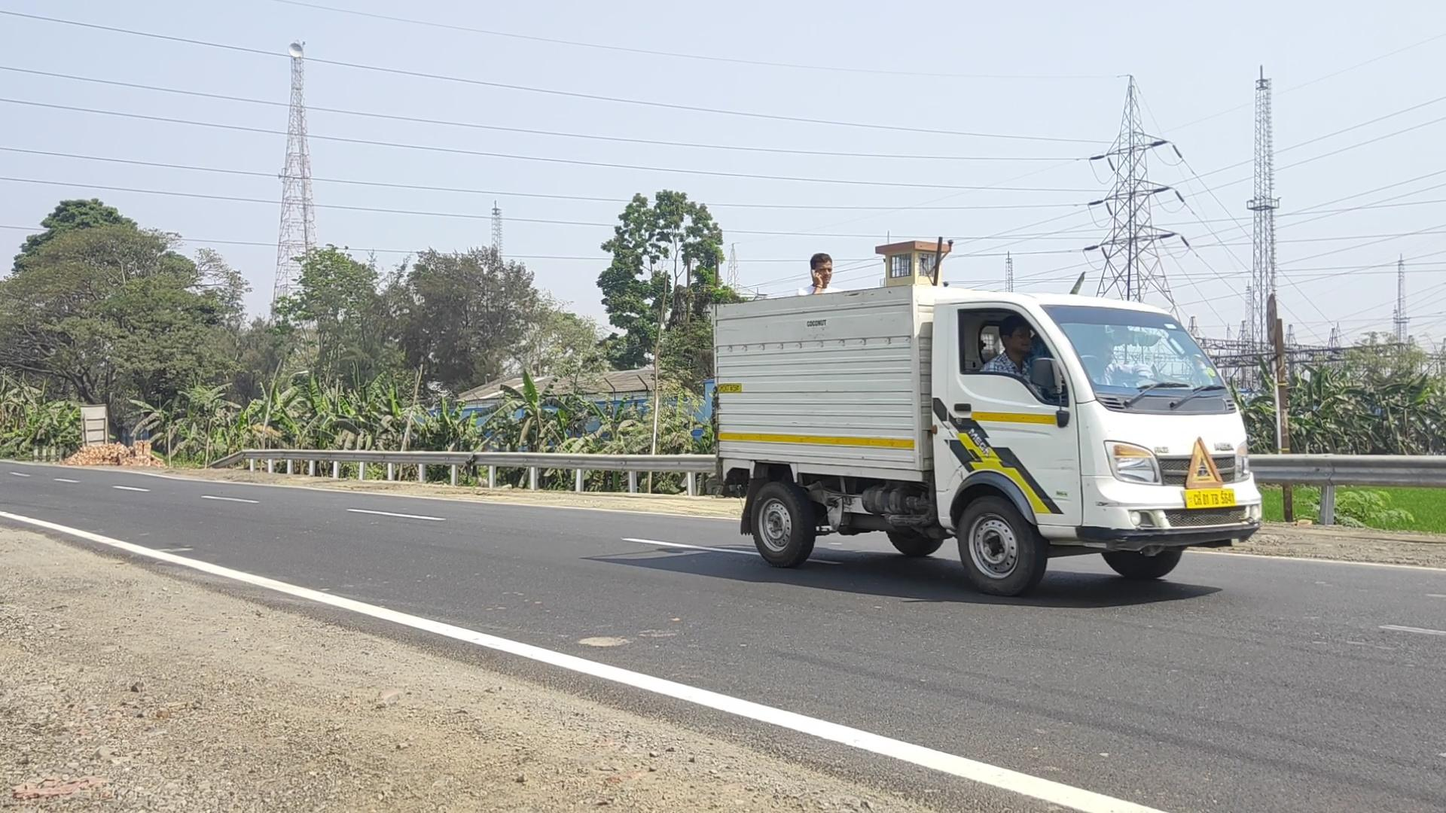van: (710, 254, 1264, 598)
